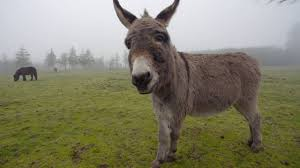donkey: (111, 2, 267, 165)
